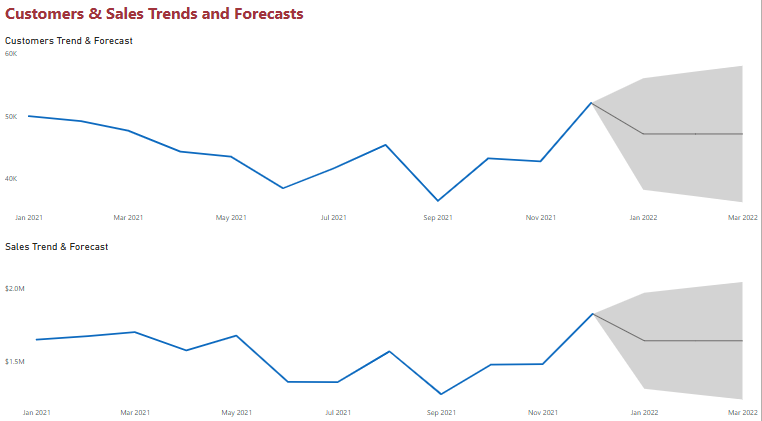

The dashboard page shown, as its layout file describes it:
{"tool":"powerbi","page":{"name":"Sales Trend and Forecast","canvas":[1280,720],"ordinal":1},"visuals":[{"type":"lineChart","title":"Customers Trend & Forecast","fields":{"Category":["sales.Date.Variation.Date Hierarchy.Year","sales.Date.Variation.Date Hierarchy.Quarter","sales.Date.Variation.Date Hierarchy.Month","sales.Date.Variation.Date Hierarchy.Day"],"Y":["sales.Total Customers"]},"box":[5,67.2,1275,325.9],"z":0},{"type":"lineChart","title":"Sales Trend & Forecast","fields":{"Y":["sales.Total Amount"],"Category":["sales.Date.Variation.Date Hierarchy.Year","sales.Date.Variation.Date Hierarchy.Quarter","sales.Date.Variation.Date Hierarchy.Month","sales.Date.Variation.Date Hierarchy.Day"]},"box":[5,413.2,1275,307.4],"z":1},{"type":"textbox","box":[5,8.4,655.1,47],"z":2}]}

Visuals, with their boxes in screenshot pixels (x1, y1, x2, y2), scaled from the page's 1280x720 canvas onto the 762x421 screenshot:
"Customers Trend & Forecast" lineChart: 3 39 761 230
"Sales Trend & Forecast" lineChart: 3 242 761 420
textbox: 3 5 393 32
